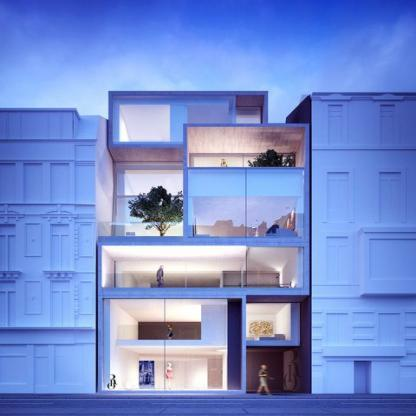Balcony: (105, 274, 247, 288), (99, 221, 184, 236)
Building Outline: (98, 91, 310, 394)
Deco: (283, 348, 304, 391), (106, 373, 118, 389)
Facade: (97, 91, 310, 394)
Floor Slab: (98, 237, 309, 245), (98, 288, 309, 295), (116, 340, 200, 345), (108, 143, 183, 148), (246, 341, 300, 346)
Glass Wall: (103, 299, 241, 391), (188, 170, 303, 237), (113, 96, 232, 142), (114, 163, 183, 236), (115, 262, 242, 288), (247, 248, 298, 288), (246, 303, 290, 341)
Window: (103, 246, 246, 288), (187, 127, 305, 168), (191, 156, 294, 169), (236, 107, 261, 123)
